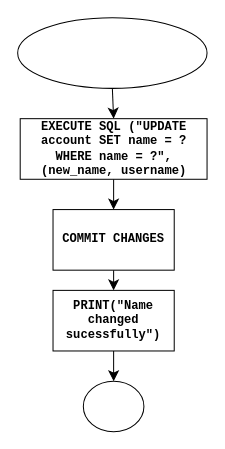
This 225x449 diagram has some shape labels left out. The box of each missing label's shape, as (x1, y1, x2, y2) in pixels:
edit_name(username, new_name): (17, 17, 207, 88)
exit: (82, 380, 144, 432)
